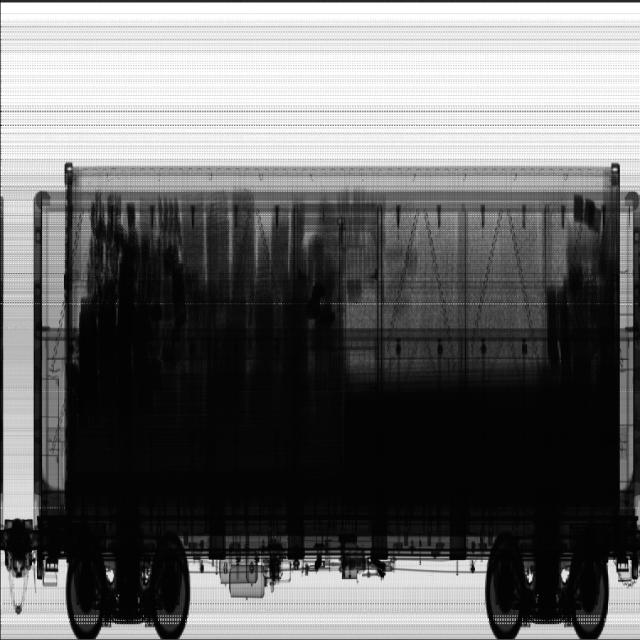spare parts: (79, 237, 345, 382)
tools: (571, 196, 605, 238)
